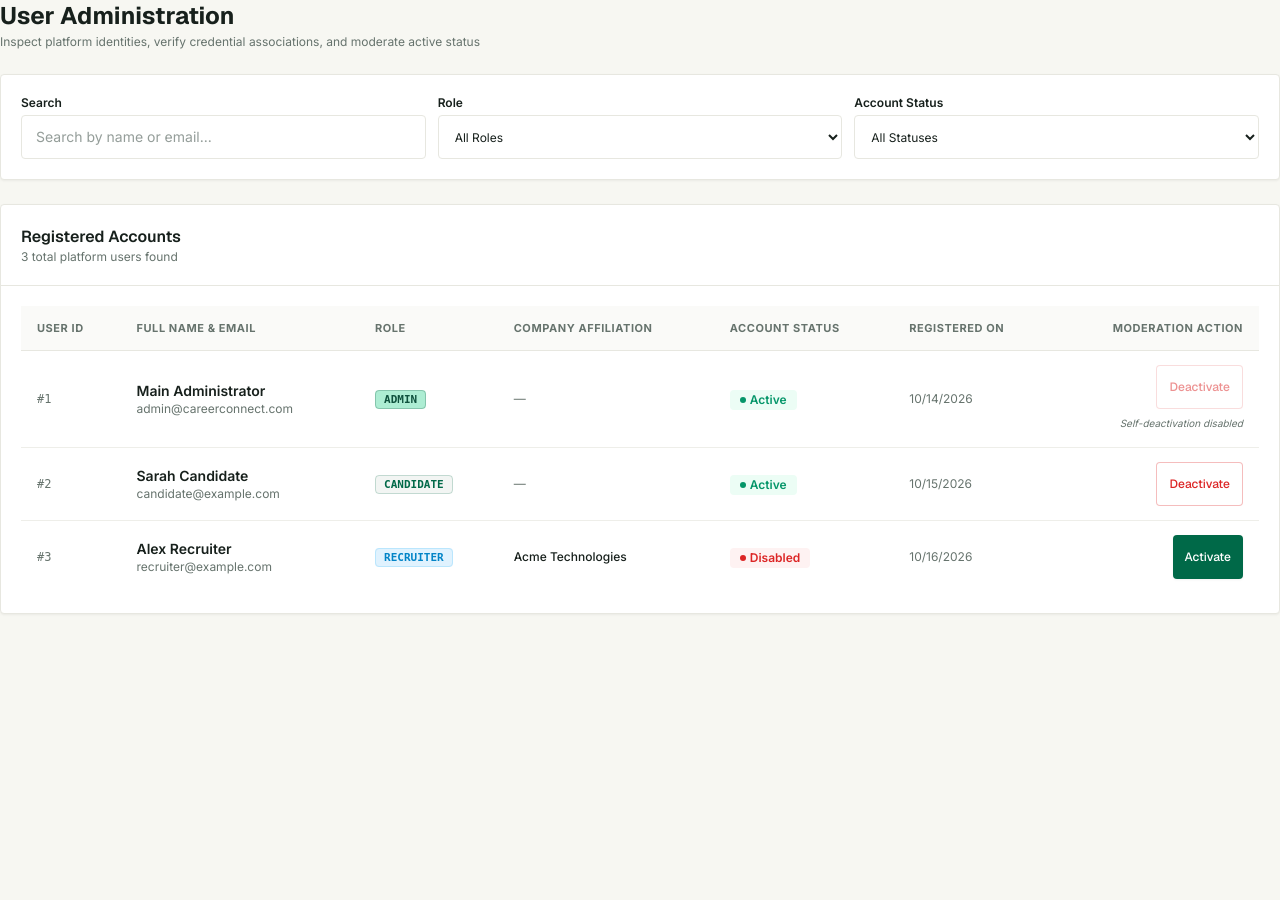
Scenario: AdminUsersPage Component › opens confirmation modal and updates user status upon confirmation
The image size is (1280, 900).
Check: the text "Sarah Candidate" is shown, box [136,467,248,484]
Click the button "Deactivate" in the row of "Sarah Candidate".
click(1200, 484)  # box [1156,462,1243,506]
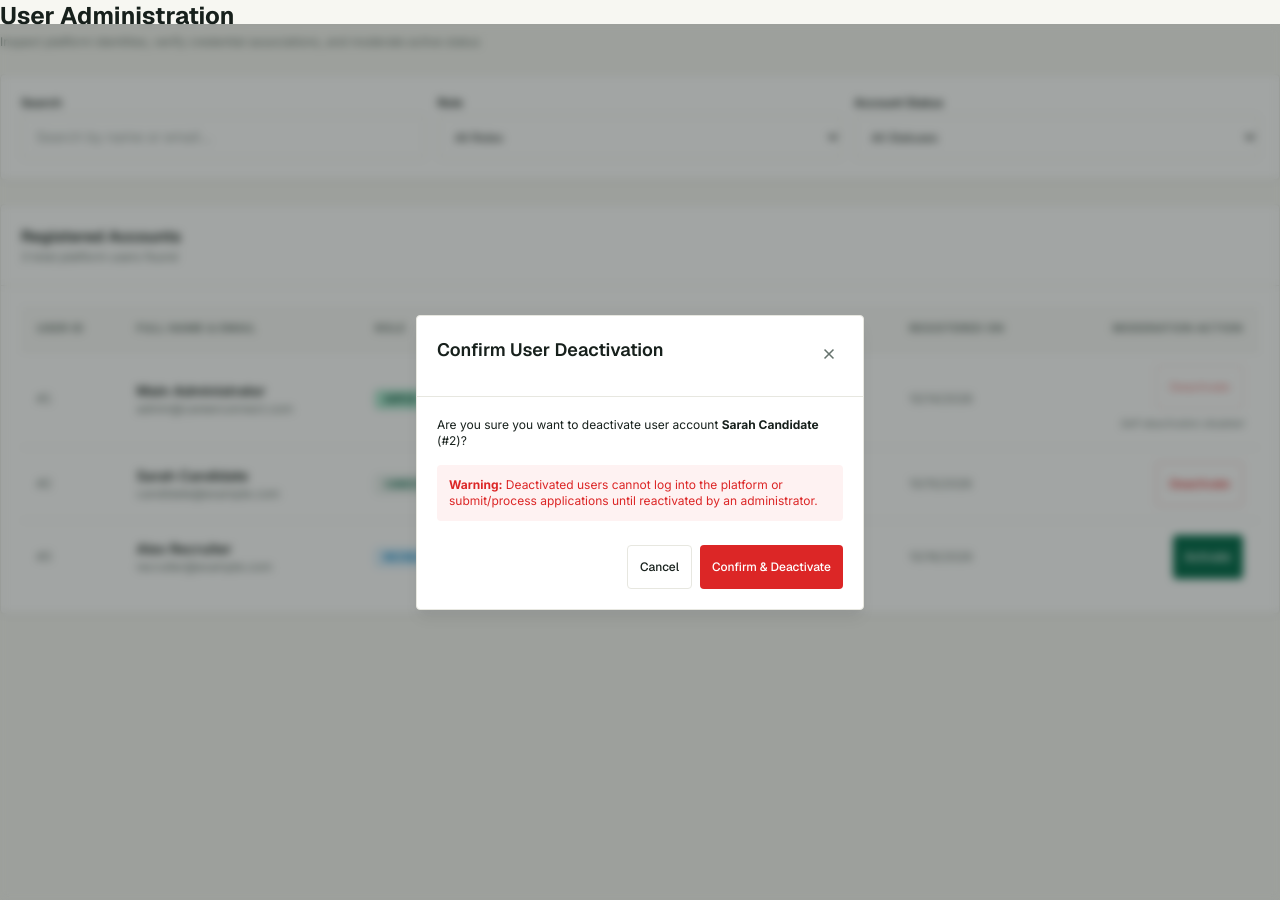
Check: the heading "Confirm User Deactivation" is shown, box [437,336,664,364]
Check: the text "Are you sure you want to deactivate user account" is shown, box [437,416,843,448]
Click the button "Confirm & Deactivate".
click(772, 566)  # box [700,544,843,588]
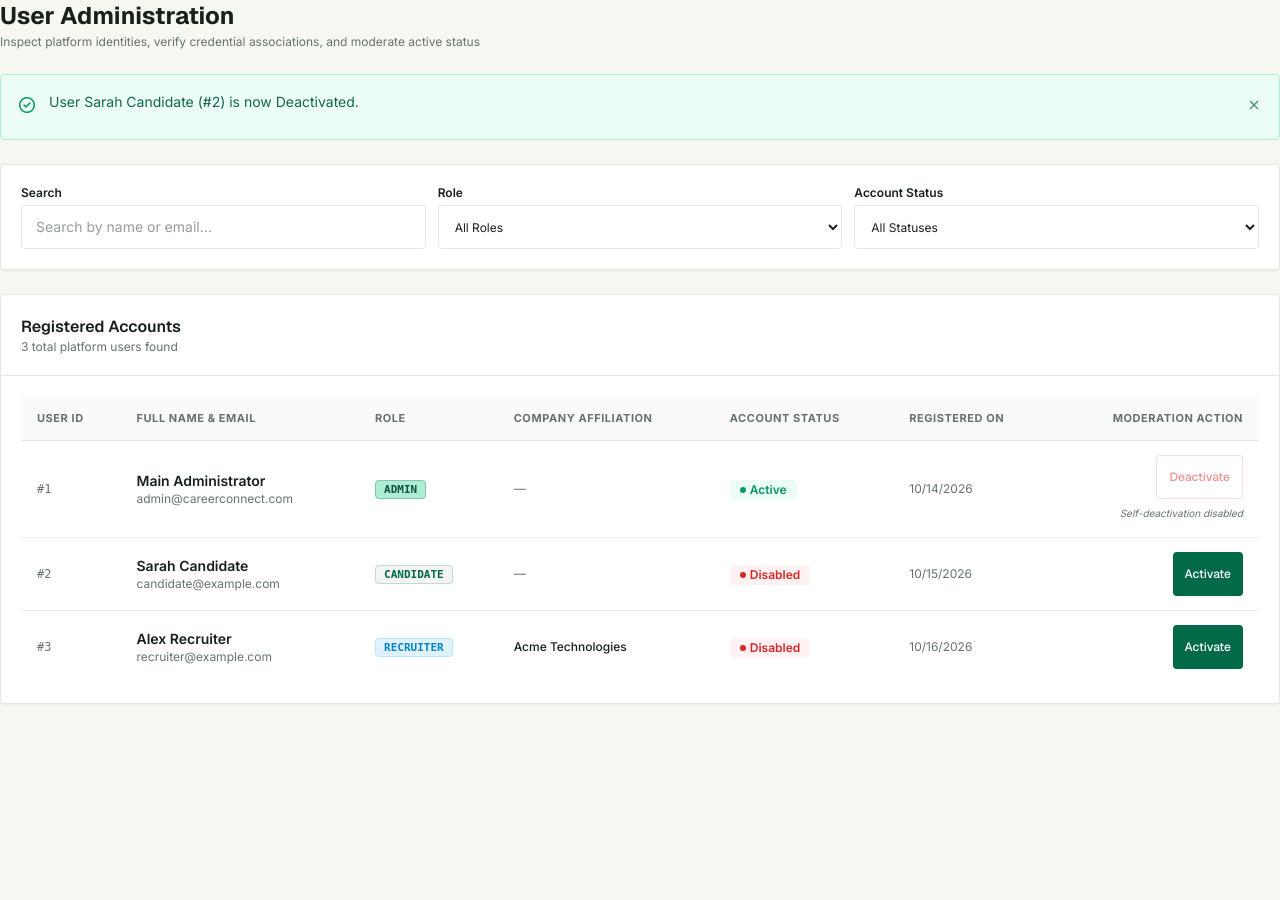
Check: the text "User Sarah Candidate (#2) is now Deactivated." is shown, box [49,93,359,110]
